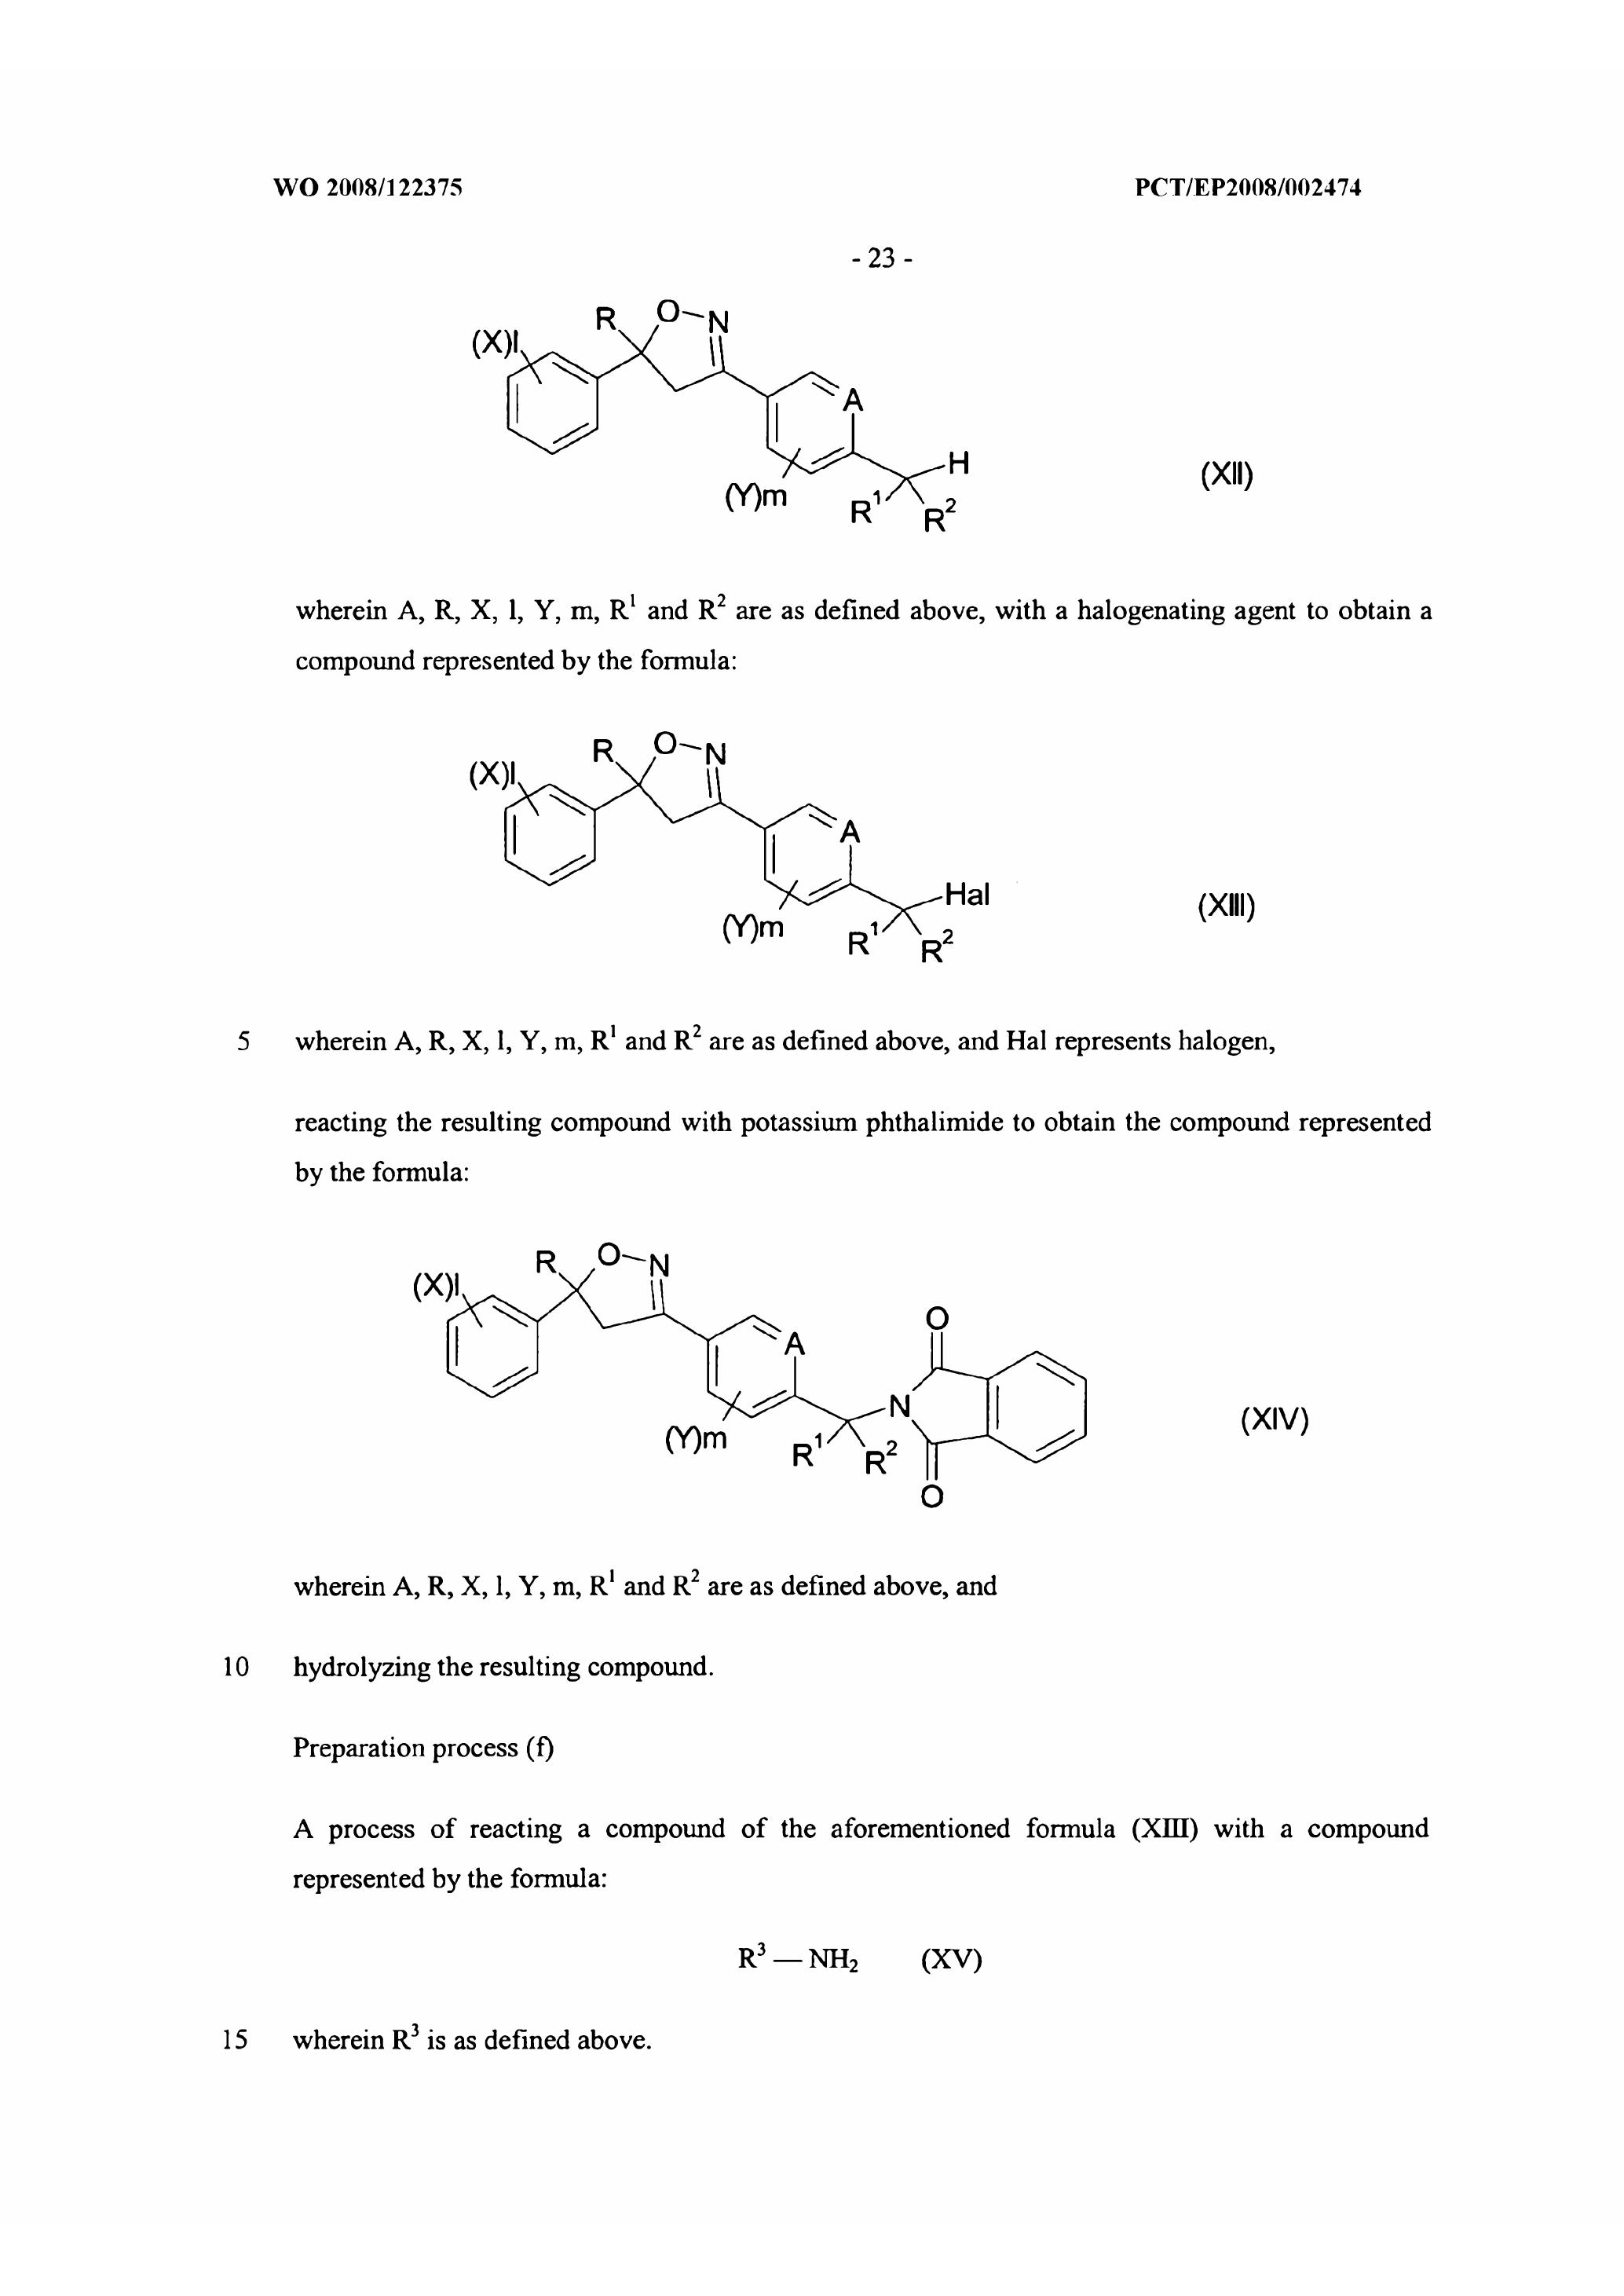intermediates: (376, 703, 1167, 977)
